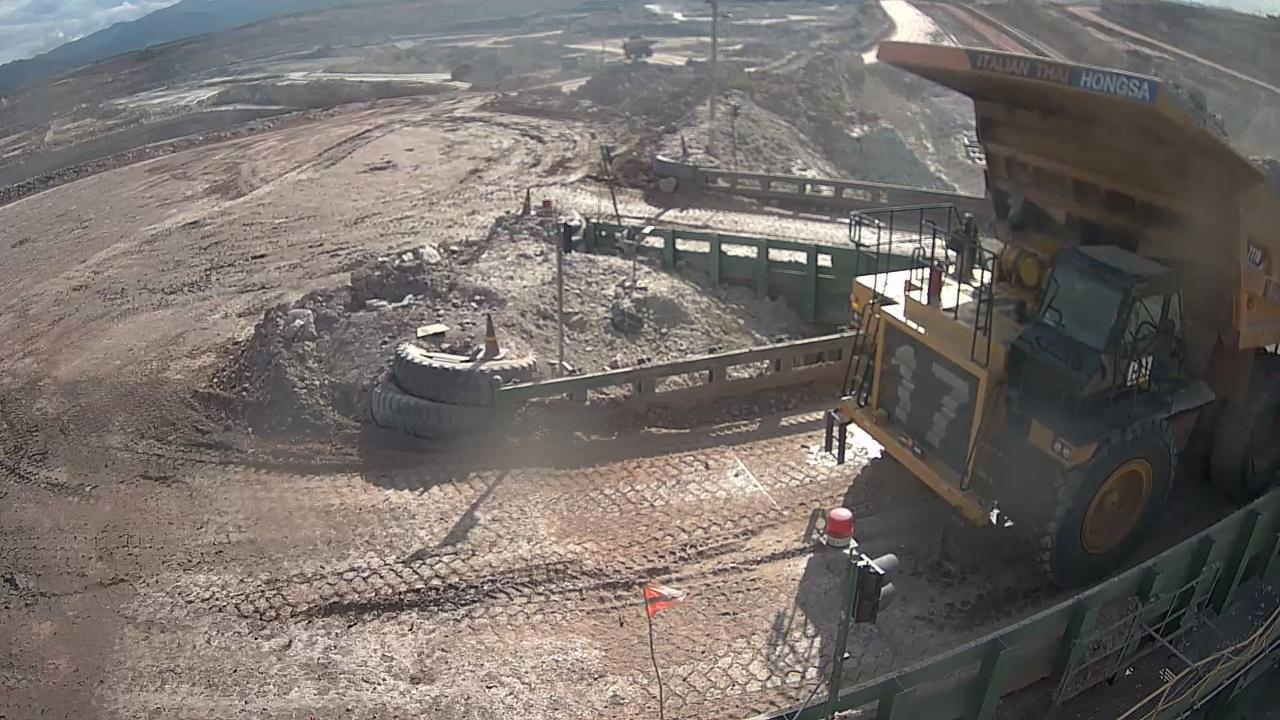dumping_soil: (819, 38, 1278, 590)
front_number: (880, 337, 982, 470)
